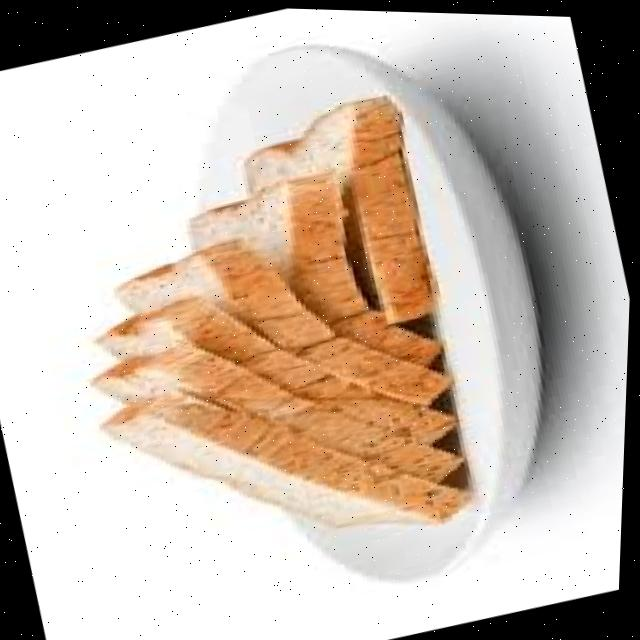Bread: (105, 393, 468, 523)
